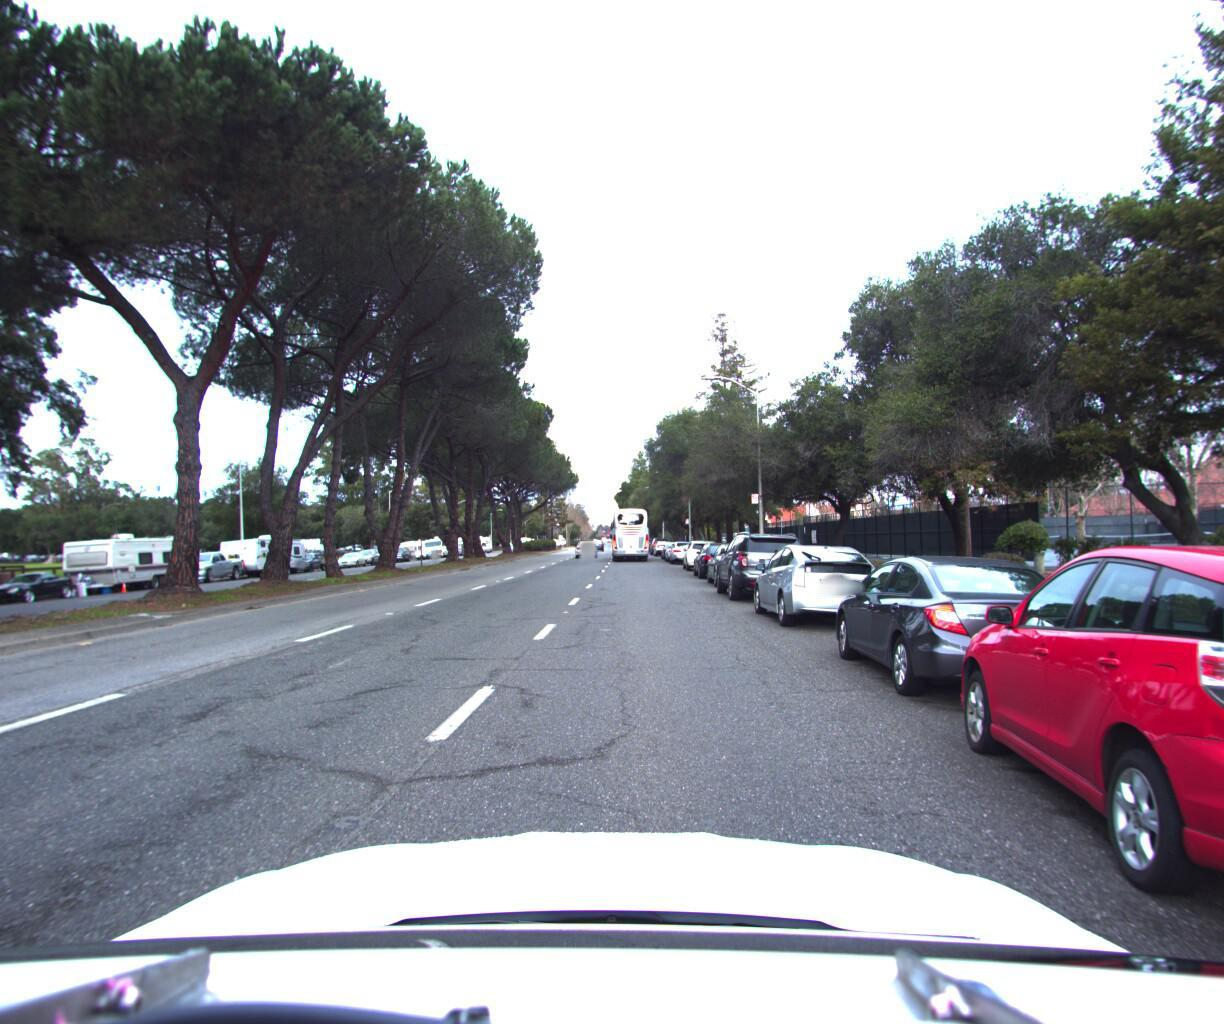bus: (606, 501, 651, 558)
car: (932, 531, 1224, 1024), (825, 542, 1123, 722), (746, 535, 892, 633), (709, 522, 815, 602), (702, 533, 772, 587), (0, 566, 83, 606), (169, 545, 249, 584), (690, 534, 745, 576), (680, 532, 722, 566), (283, 545, 334, 570), (667, 532, 701, 559), (349, 539, 385, 563), (333, 545, 371, 565), (651, 533, 674, 551), (574, 533, 598, 551)
other_vehicle: (38, 530, 198, 597), (213, 527, 311, 575)
